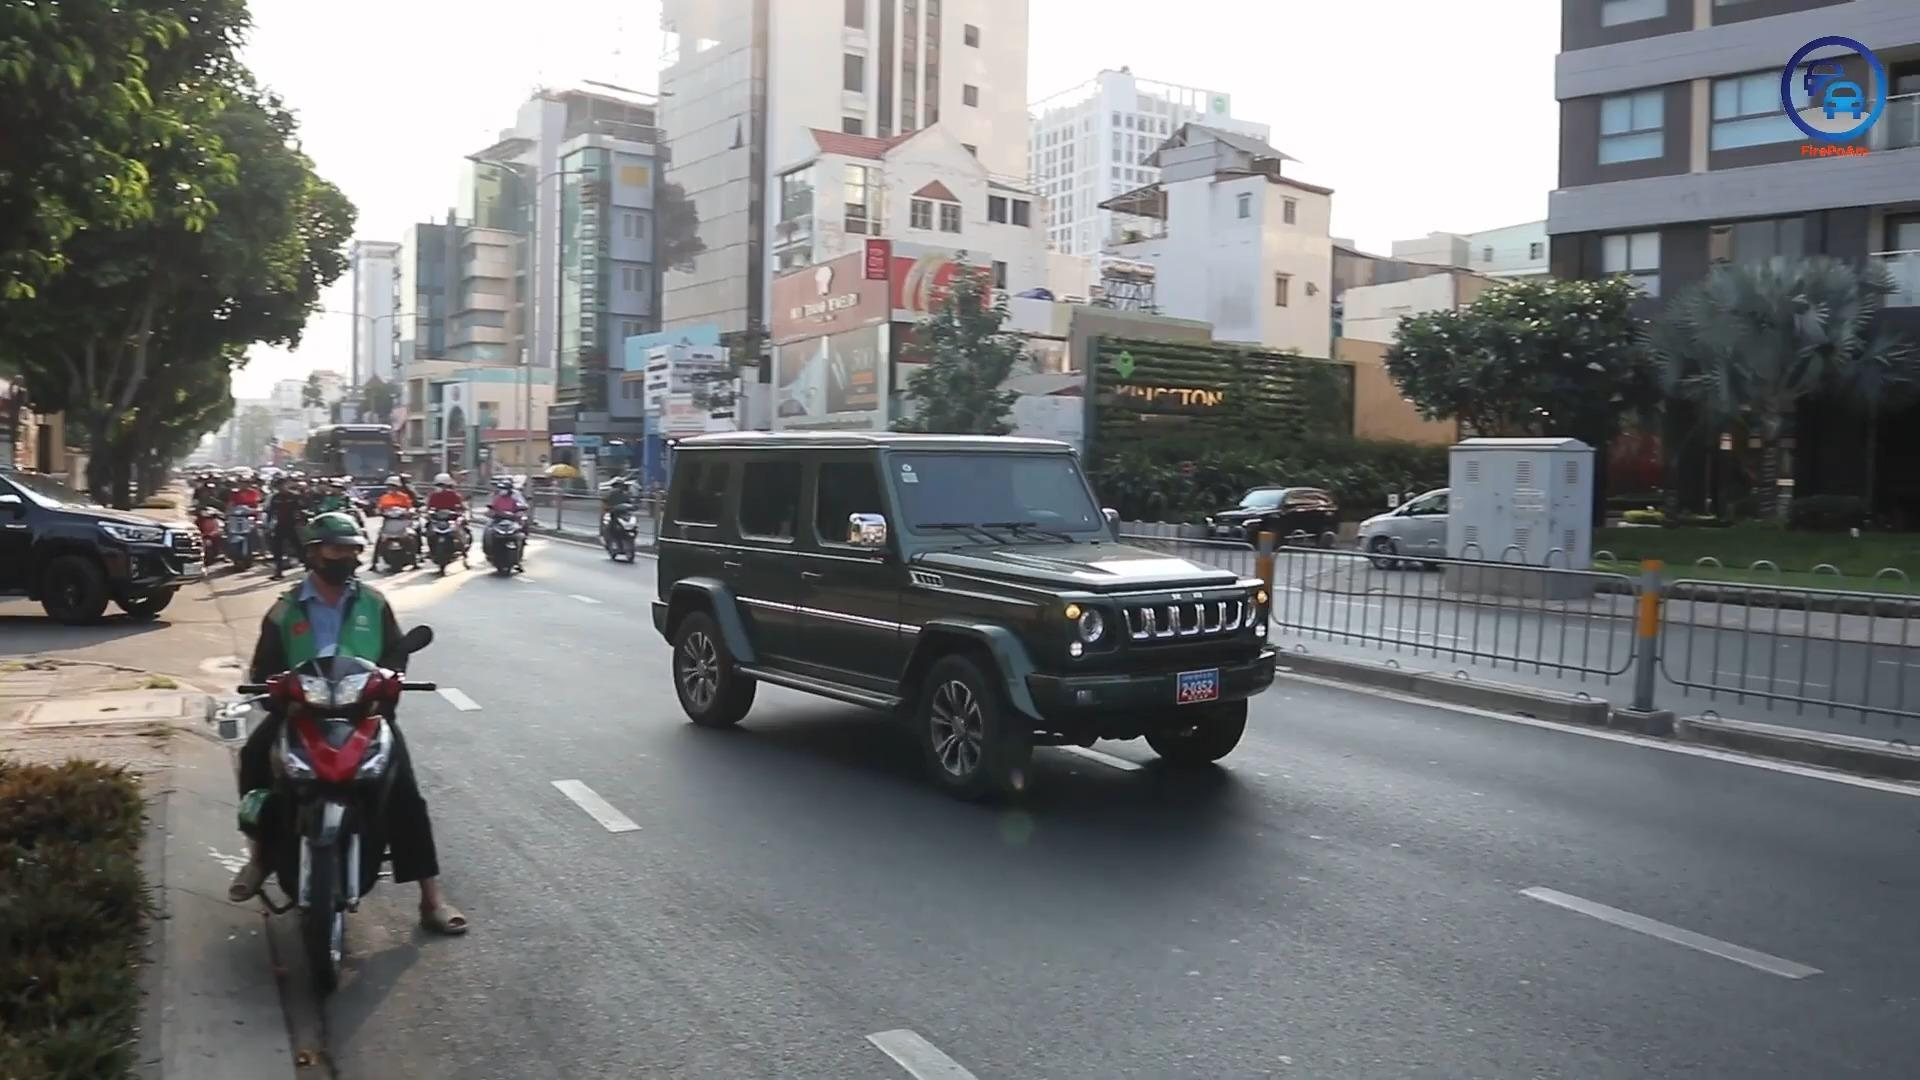bien_so: (1174, 667, 1220, 705)
